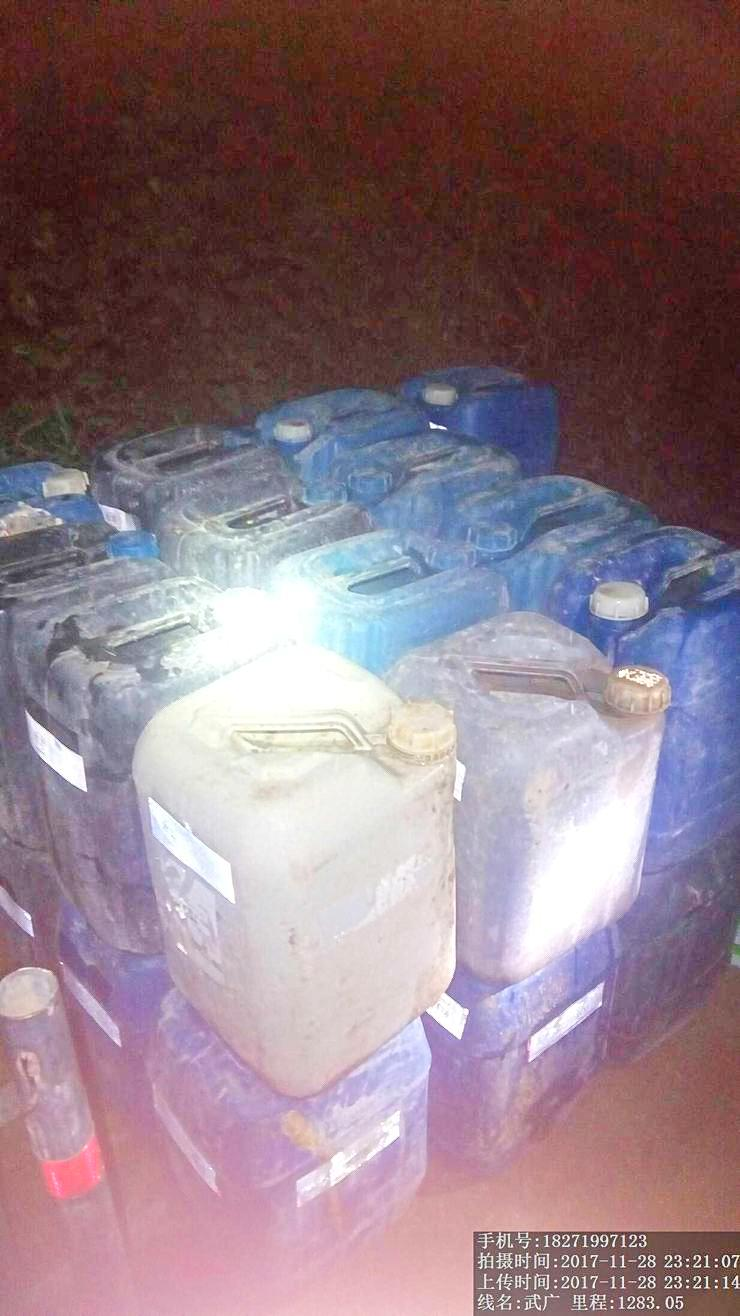SLT: (134, 641, 452, 1089), (427, 621, 661, 972)
